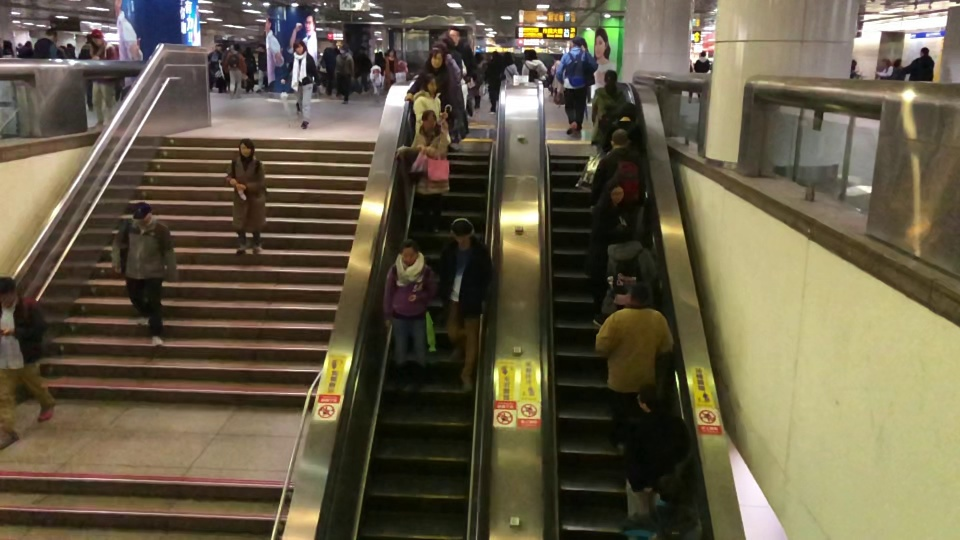person_head: (653, 474, 685, 503), (636, 383, 664, 410), (0, 275, 16, 306), (451, 218, 473, 240), (625, 283, 647, 305), (605, 179, 624, 203), (399, 238, 418, 261), (132, 202, 152, 223), (610, 129, 630, 149), (236, 138, 256, 157), (618, 102, 637, 121), (420, 110, 438, 128), (613, 224, 631, 241), (429, 48, 444, 68), (423, 73, 436, 91), (603, 69, 619, 82), (449, 27, 460, 45), (91, 30, 104, 45), (292, 39, 307, 51), (43, 28, 57, 39), (569, 36, 582, 47), (525, 49, 537, 59), (1, 39, 12, 49), (880, 57, 891, 67), (919, 46, 929, 56), (339, 44, 347, 54), (851, 58, 857, 69), (388, 48, 396, 56), (373, 65, 380, 73), (894, 57, 901, 65), (231, 43, 239, 50), (246, 46, 254, 53), (700, 50, 706, 58), (504, 52, 511, 58), (214, 43, 221, 49), (260, 42, 266, 48)
person_vbox: (595, 283, 674, 449), (0, 275, 55, 450), (438, 218, 493, 393), (114, 202, 177, 347), (623, 383, 690, 517), (381, 238, 437, 392), (394, 110, 450, 232), (584, 179, 626, 326), (621, 474, 702, 540), (223, 138, 268, 255), (602, 224, 656, 314), (590, 130, 645, 213), (555, 37, 599, 140), (280, 38, 320, 128), (590, 69, 626, 154), (405, 49, 453, 110), (412, 72, 449, 150), (90, 30, 117, 126), (450, 27, 476, 107), (600, 103, 640, 153), (335, 44, 355, 105), (903, 46, 935, 82), (207, 45, 230, 94), (226, 43, 245, 100), (693, 50, 711, 100), (521, 49, 548, 81), (34, 28, 57, 58), (382, 47, 396, 89), (244, 46, 256, 94), (502, 52, 519, 79), (371, 64, 383, 100), (874, 58, 893, 80), (850, 57, 863, 80), (893, 58, 906, 81), (1, 39, 14, 58)
